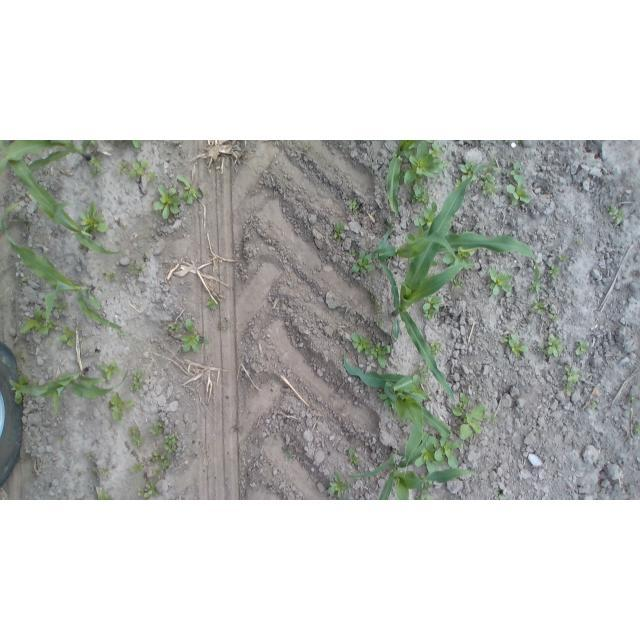Maize: (379, 161, 495, 404), (1, 200, 124, 335), (342, 343, 455, 477), (364, 217, 540, 300), (1, 141, 123, 256), (347, 431, 479, 500), (9, 364, 130, 417), (2, 141, 94, 172), (385, 140, 417, 222)
Weeds: (404, 141, 444, 197), (451, 391, 487, 440), (416, 433, 460, 472), (350, 331, 393, 369), (178, 316, 215, 355), (507, 161, 533, 208), (79, 197, 108, 236), (153, 185, 184, 220), (19, 307, 54, 337), (174, 170, 202, 204), (104, 391, 132, 424), (7, 374, 33, 408), (487, 268, 514, 297), (348, 249, 376, 275), (326, 470, 350, 500), (538, 332, 565, 358), (499, 332, 527, 357), (561, 363, 582, 396), (440, 252, 476, 270), (411, 202, 437, 226), (99, 359, 122, 382), (128, 156, 149, 180), (135, 478, 160, 498), (410, 374, 430, 399), (423, 295, 443, 319), (59, 325, 77, 350), (125, 426, 146, 447), (609, 204, 628, 227), (348, 446, 366, 470), (459, 158, 477, 182), (481, 171, 497, 196), (409, 186, 431, 204), (162, 432, 180, 454), (130, 367, 145, 392), (333, 221, 348, 244), (282, 445, 299, 465), (89, 155, 104, 176), (17, 215, 32, 236), (531, 298, 546, 317), (418, 472, 434, 489), (574, 337, 589, 355), (429, 141, 444, 159), (375, 304, 386, 328), (128, 258, 143, 275), (128, 459, 143, 476), (547, 264, 561, 281), (429, 339, 443, 355), (149, 421, 162, 437), (55, 300, 70, 313), (412, 492, 436, 500), (105, 272, 119, 285), (218, 317, 231, 331), (415, 363, 428, 377), (493, 487, 507, 500), (116, 159, 128, 174), (149, 447, 161, 462), (159, 452, 170, 468), (528, 280, 541, 293), (204, 296, 216, 310), (131, 140, 145, 152), (169, 321, 181, 334), (587, 400, 598, 414), (15, 349, 24, 364), (628, 391, 637, 406), (451, 278, 462, 290), (98, 490, 111, 500), (97, 466, 109, 476), (368, 292, 378, 304), (348, 199, 357, 212), (347, 247, 357, 258), (16, 278, 29, 286), (633, 422, 640, 436), (119, 330, 129, 339), (488, 413, 497, 423), (550, 313, 560, 322), (560, 254, 569, 263), (490, 156, 499, 165), (142, 252, 149, 263), (86, 453, 94, 462), (574, 237, 582, 245), (150, 467, 158, 474), (147, 172, 154, 179), (57, 435, 64, 441), (549, 307, 555, 314), (308, 143, 314, 150), (503, 140, 509, 145), (516, 140, 522, 144), (134, 280, 138, 284)
